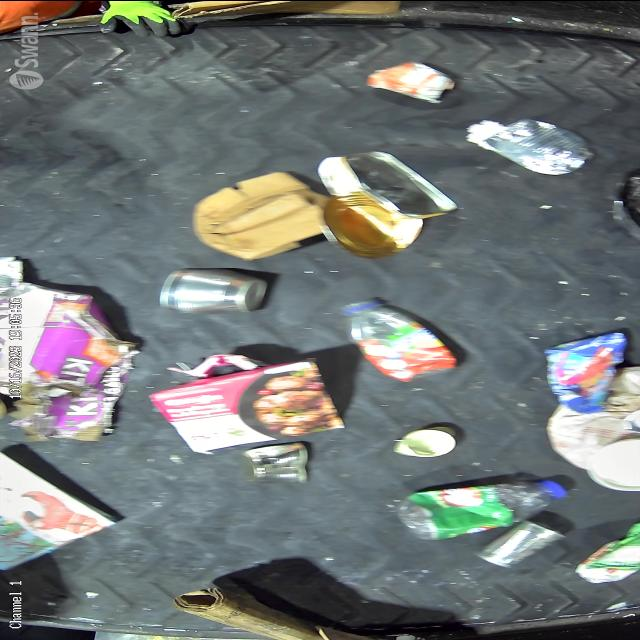can: (318, 190, 424, 258), (484, 116, 596, 176), (156, 265, 268, 313), (473, 518, 568, 568), (362, 59, 458, 103), (238, 441, 312, 484), (390, 424, 460, 457)
non_white_jug: (542, 329, 628, 414)
plastic_bottle: (393, 478, 567, 541)
